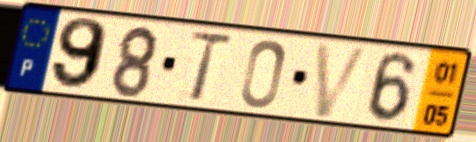0: (239, 37, 289, 110)
6: (365, 50, 421, 127)
8: (108, 22, 161, 99)
9: (50, 15, 114, 94)
T: (186, 29, 235, 105)
V: (312, 40, 375, 120)
